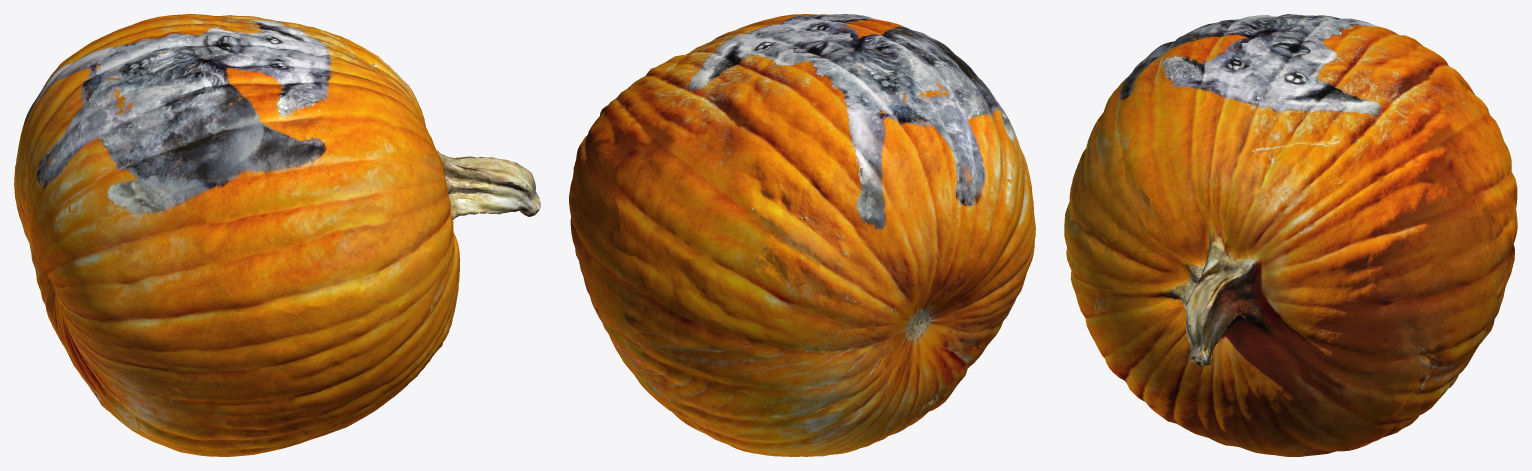
The model's file is Joy Pumpkin Redo.obj.
3 renders of one model, left to right at view 1: azimuth 30°, elevation 25°; view 2: azimuth 150°, elevation 25°; view 3: azimuth 270°, elevation 25°, orthographic. The views are drawn at different scales.
Parts seen in each view (by area): view 1: Object; view 2: Object; view 3: Object.
Part boxes in pixels (x1,y1,x2,y2): Object: [14, 14, 540, 456]; Object: [569, 14, 1035, 456]; Object: [1064, 14, 1517, 456].
Bounding box in the file's own units: 1.07 × 0.8792 × 0.9416.
Materials: 1 (1 with a texture image).
